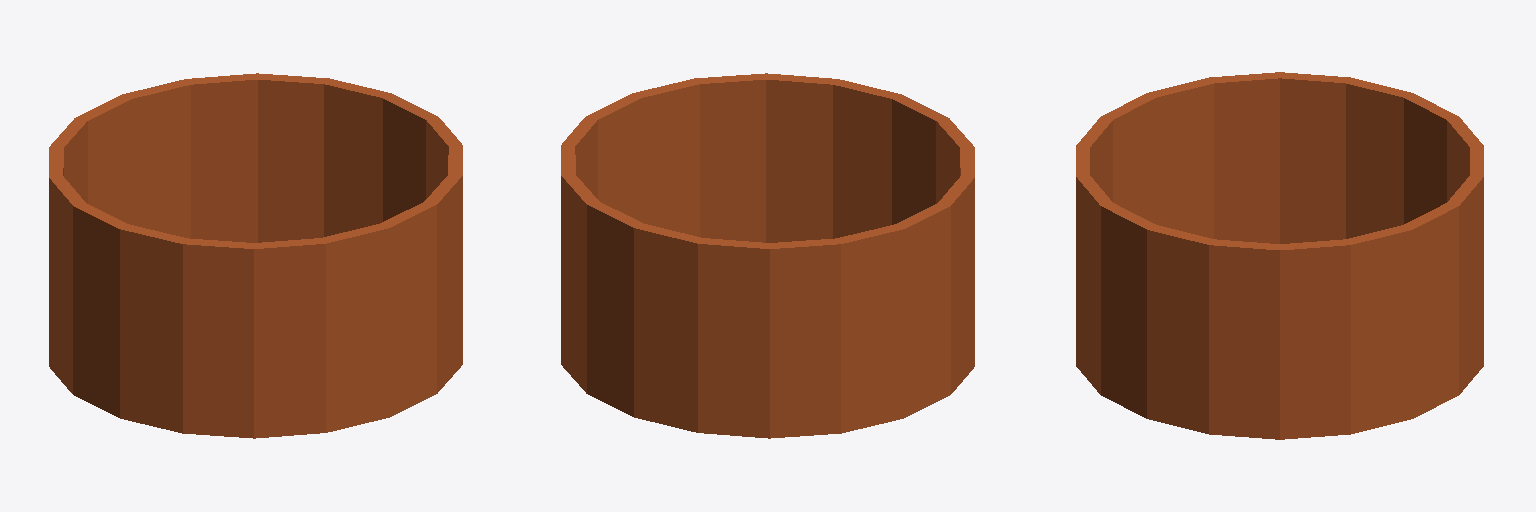
Rendered from bigger_lampshade.obj.
The picture shows the model from 3 angles: view 1: azimuth 30°, elevation 25°; view 2: azimuth 150°, elevation 25°; view 3: azimuth 270°, elevation 25°; orthographic projection.
Parts seen in each view (by area): view 1: Cylinder001; view 2: Cylinder001; view 3: Cylinder001.
Boxes of the visible parts, box(x1,y1,x2,y2) form: Cylinder001: box(49, 73, 462, 438); Cylinder001: box(561, 73, 974, 438); Cylinder001: box(1076, 72, 1483, 439).
Size of the model in its own units: 9.66 by 4.78 by 9.33.